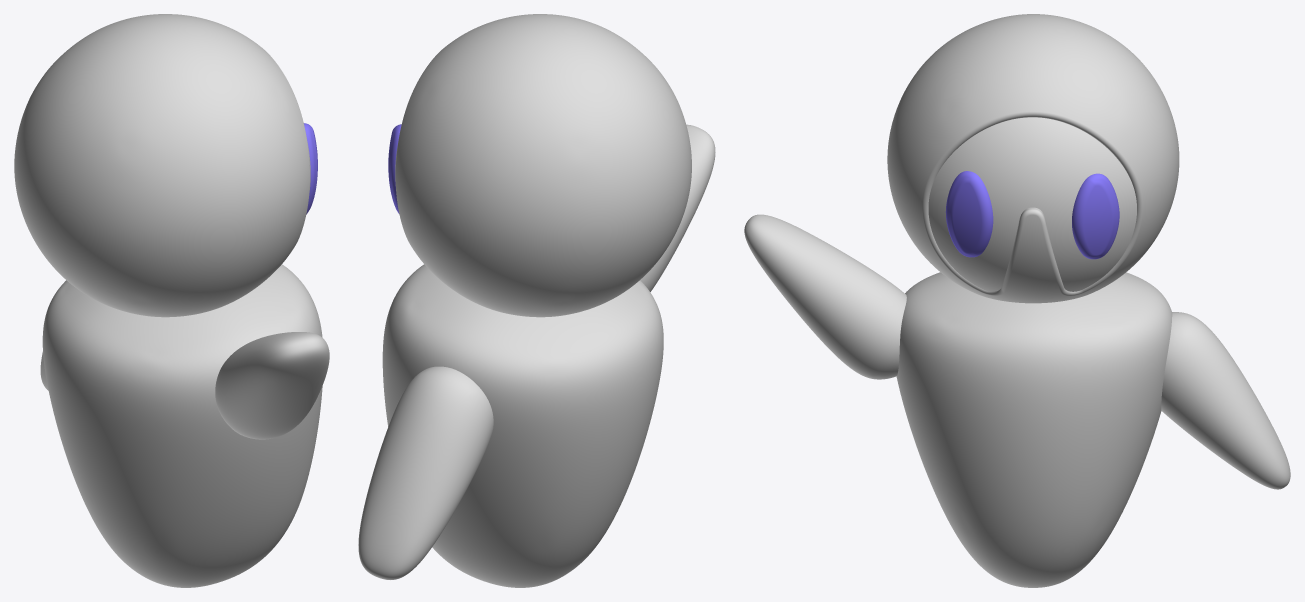
The model's file is delibot-chrome-blanc-bleu.glb.
3 views of the same model, side by side, from view 1: azimuth 30°, elevation 25°; view 2: azimuth 150°, elevation 25°; view 3: azimuth 270°, elevation 25° (orthographic). The views are drawn at different scales.
Parts seen in each view (by area): view 1: Delibot v7; view 2: Delibot v7; view 3: Delibot v7.
Part boxes in pixels (x1,y1,x2,y2): Delibot v7: (14,14,329,587); Delibot v7: (358,14,715,587); Delibot v7: (744,14,1290,587).
Size of the model in its own units: 19.35 by 38.31 by 35.38.
